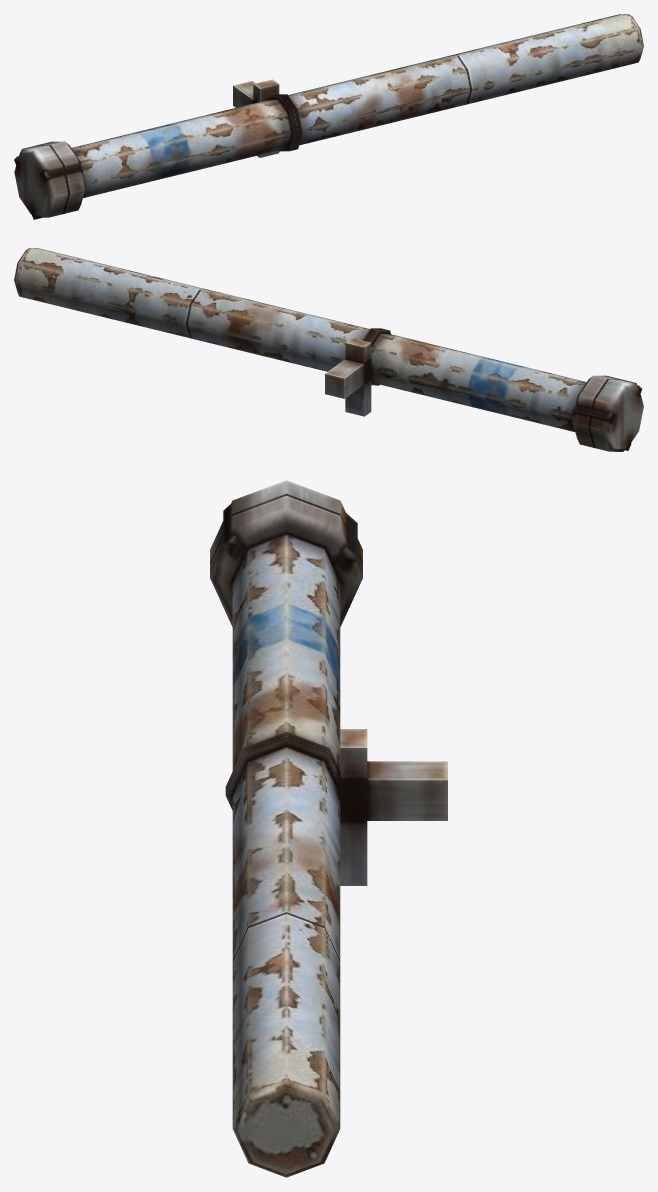
File: cano.glb
3 renders of one model, top to bottom at view 1: azimuth 30°, elevation 25°; view 2: azimuth 150°, elevation 25°; view 3: azimuth 270°, elevation 25°, orthographic. The views are drawn at different scales.
Visible parts, largest first — view 1: cano; view 2: cano; view 3: cano.
Boxes of the visible parts, box(x1,y1,x2,y2) form: cano: box(14, 14, 643, 219); cano: box(14, 248, 643, 451); cano: box(210, 480, 447, 1177).
Bounding box in the file's own units: 1.55 × 0.1902 × 0.2652.
1 material, 1 textured.
